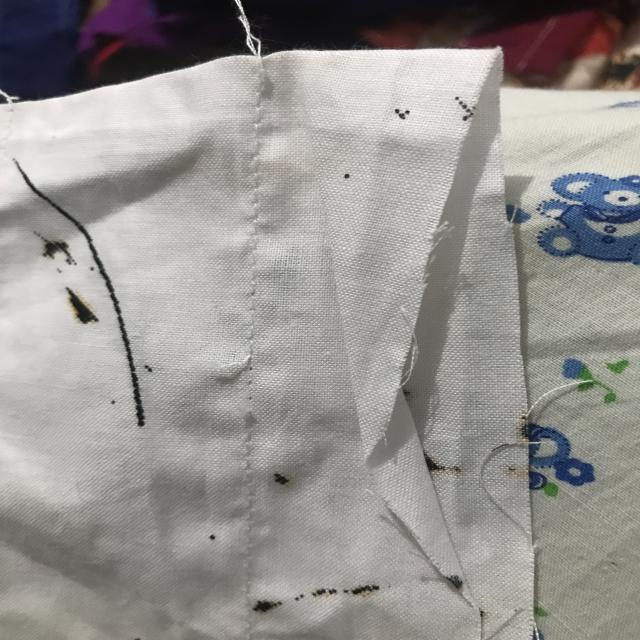broken: (218, 348, 282, 442)
